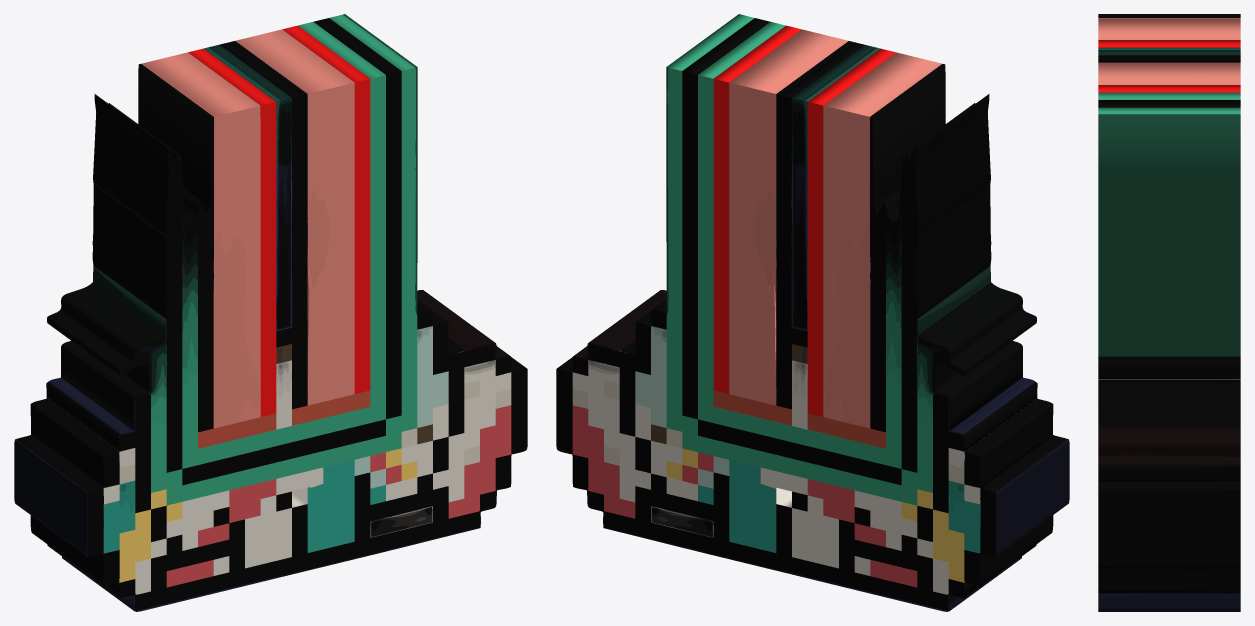
Rendered from Toadz_2865.glb.
The picture shows the model from 3 angles, left to right: view 1: azimuth 30°, elevation 25°; view 2: azimuth 150°, elevation 25°; view 3: azimuth 270°, elevation 25°; orthographic projection. The views are drawn at different scales.
Visible parts, largest first — view 1: Curve; view 2: Curve; view 3: Curve.
Part boxes in pixels (left/top/right/bottom): Curve: left=14, top=14, right=527, bottom=611; Curve: left=556, top=14, right=1069, bottom=611; Curve: left=1098, top=14, right=1240, bottom=611.
Bounding box in the file's own units: 3.5 × 3.62 × 1.
